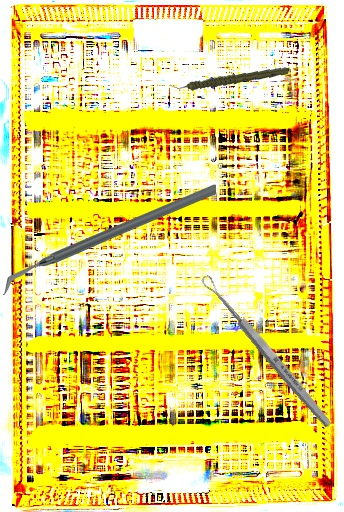Chopper: (3, 183, 216, 295)
Handpiece: (169, 56, 289, 100)
Surgical Spoon: (198, 271, 335, 431)
